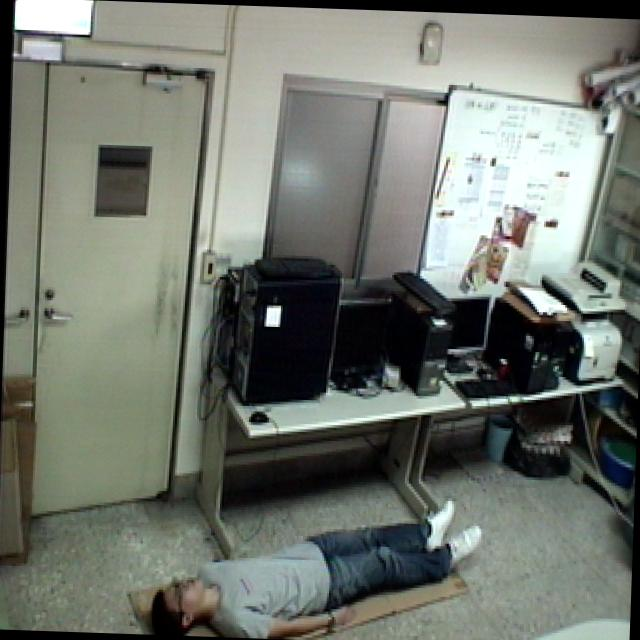lie: (139, 476, 494, 640)
